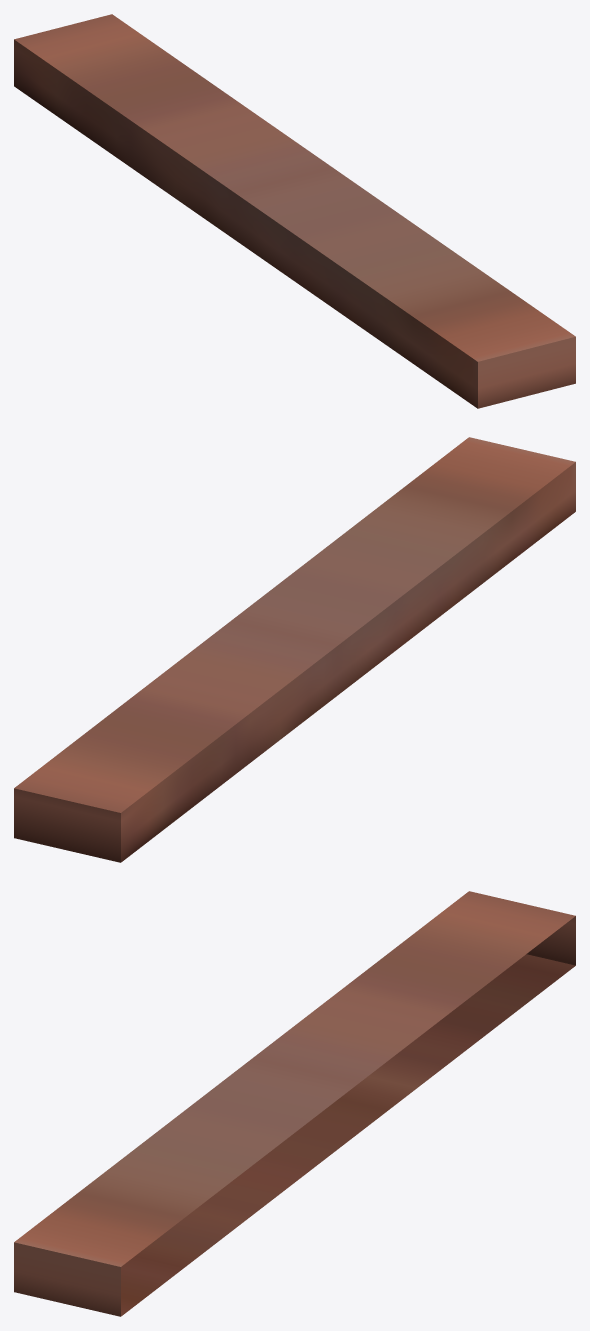
File: object_680_lev3.glb
3 views of the same model, one above another, from view 1: azimuth 30°, elevation 25°; view 2: azimuth 150°, elevation 25°; view 3: azimuth 330°, elevation 25° (orthographic). The views are drawn at different scales.
Parts seen in each view (by area): view 1: object_680_lev3; view 2: object_680_lev3; view 3: object_680_lev3.
Boxes of the visible parts, x1,y1,x2,y2 form: object_680_lev3: (14, 14, 575, 408); object_680_lev3: (14, 437, 575, 862); object_680_lev3: (14, 891, 575, 1316).
Size of the model in its own units: 0.2447 by 0.0939 by 1.62.
Materials: 1 (1 with a texture image).
